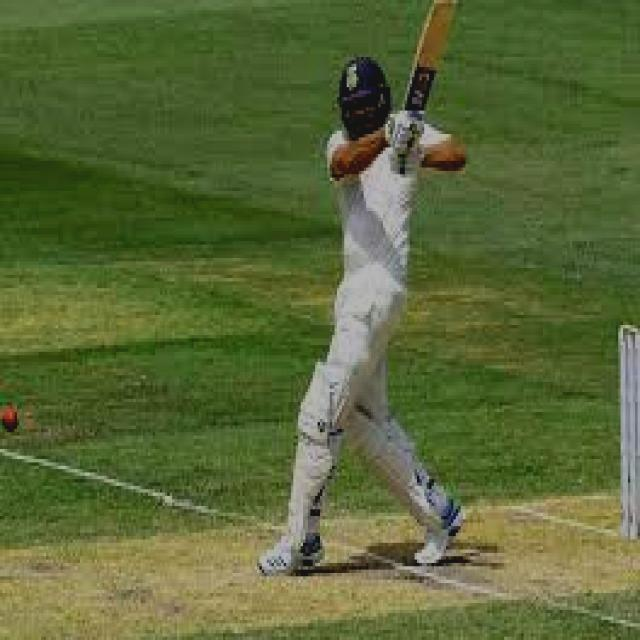toe: (426, 0, 460, 24)
